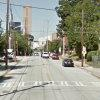Crosswalk: (7, 74, 85, 96)
